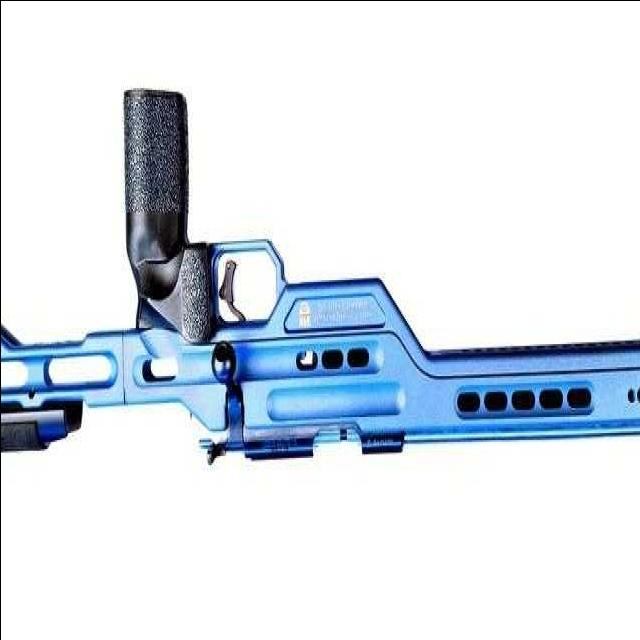heavyweapon: (6, 74, 615, 497)
